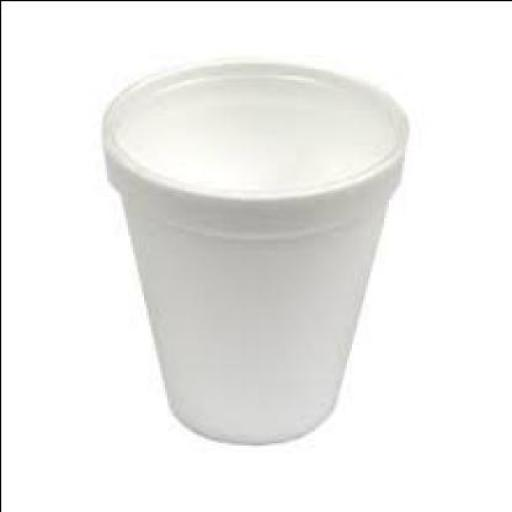paper: (97, 57, 404, 444)
